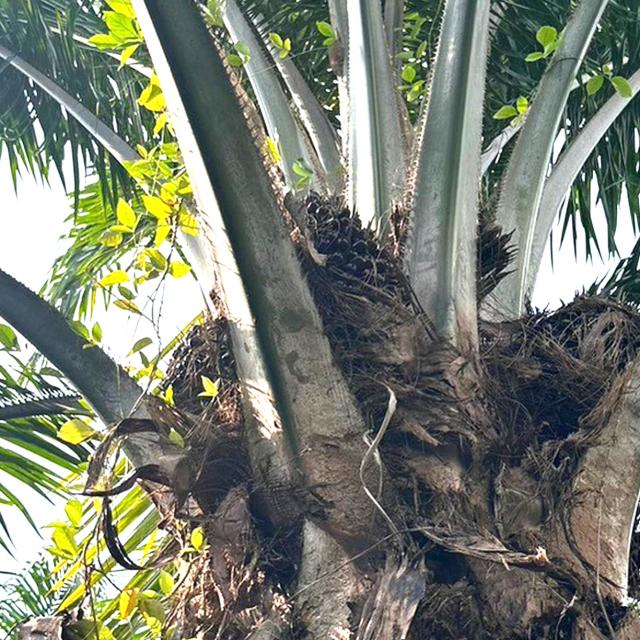almost: (290, 184, 424, 366)
